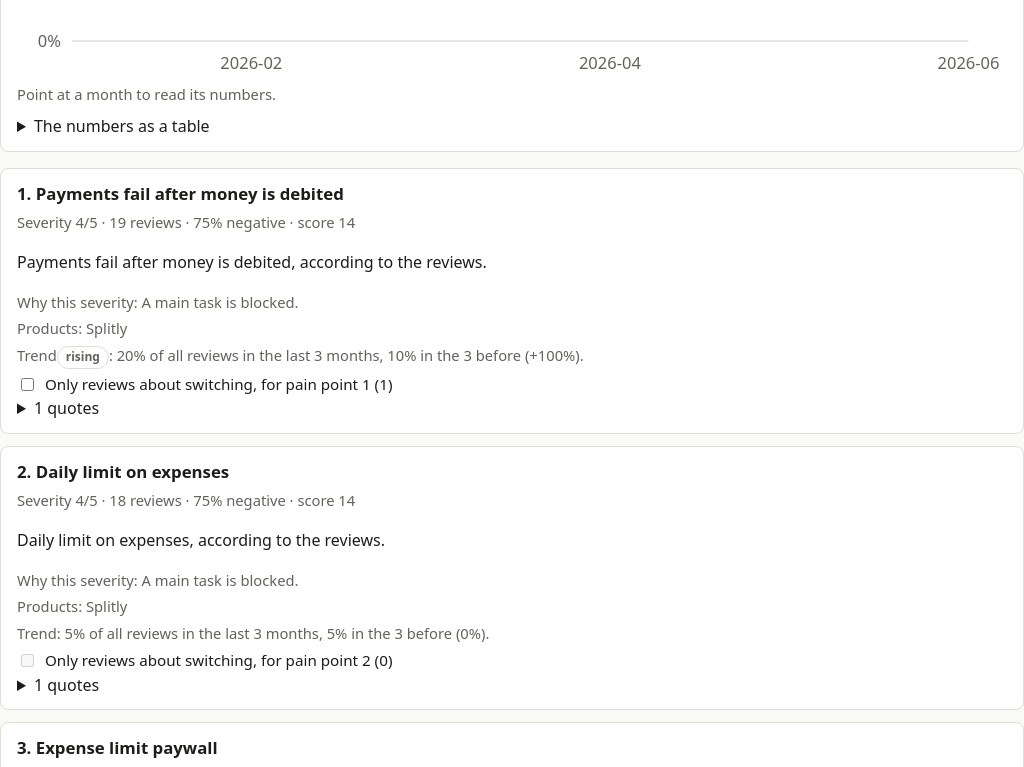
Scenario: trends and switching on a pain point › filters a pain point down to its reviews about switching
This screenshot has width=1024, height=767.
(page scrolled)
Expected: the text "switching to Tabby" is not shown
Click the checkbox labelled "Only reviews about switching, for pain point 1 (1)" at (28, 384), box [21,378,34,391]
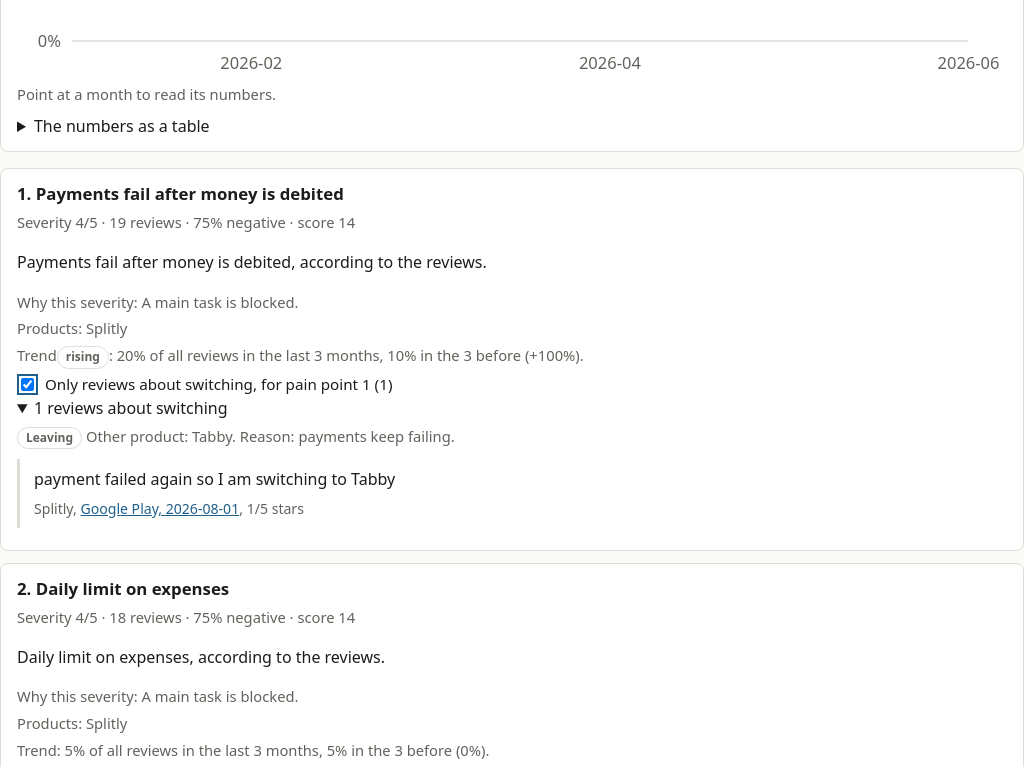
Expected: the text "payment failed again so I am switching to Tabby" is shown, [34,468,395,490]
Expected: the text "Leaving" is shown, [17,427,82,449]
Expected: the text "Leaving Other product: Tabby. Reason: payments keep failing." is shown, [17,426,455,449]
Click the checkbox labelled "Only reviews about switching, for pain point 1 (1)" at (28, 384), box [21,378,34,391]
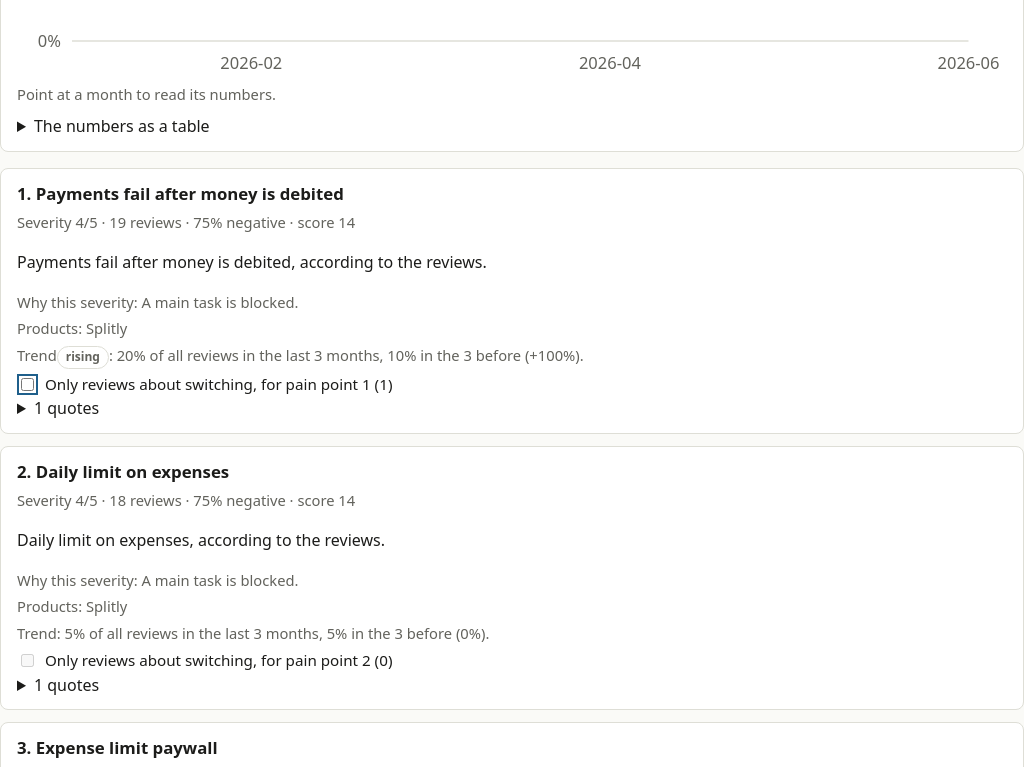
Expected: the text "switching to Tabby" is gone
